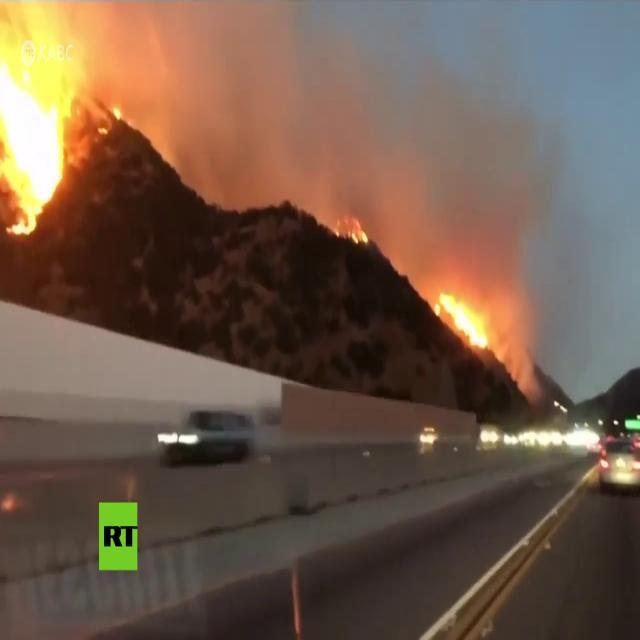Fire: (2, 12, 68, 240), (435, 289, 487, 351), (348, 217, 369, 246), (112, 103, 120, 122)
